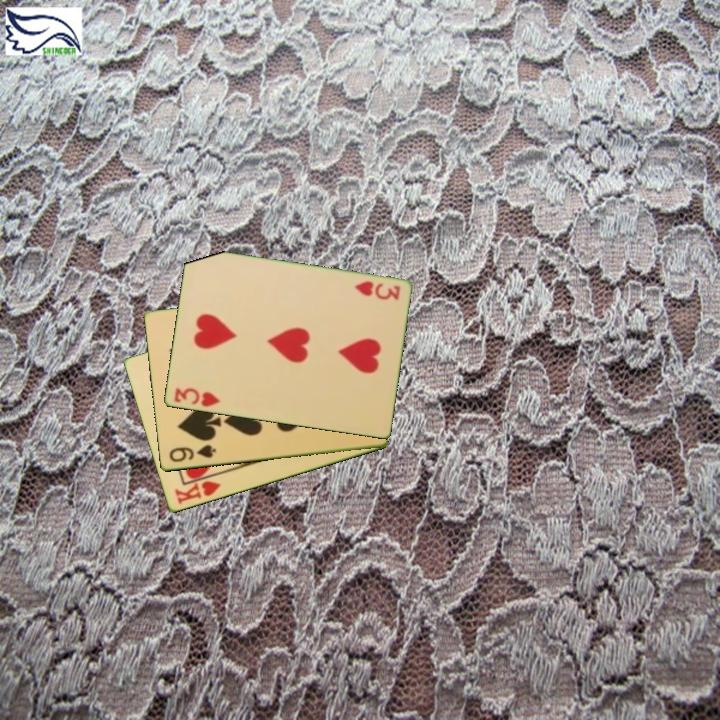3h: (170, 384, 223, 410), (350, 277, 403, 303)
9s: (165, 441, 219, 465)
Kh: (171, 471, 223, 507)
